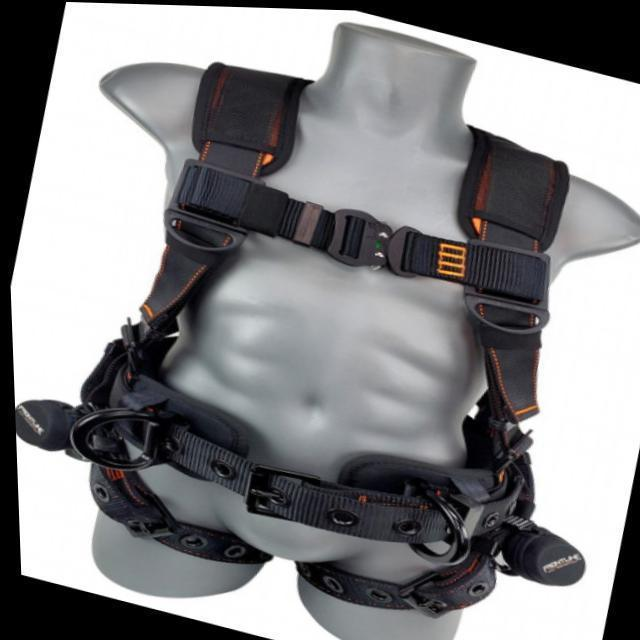safety belt: (126, 71, 531, 615)
